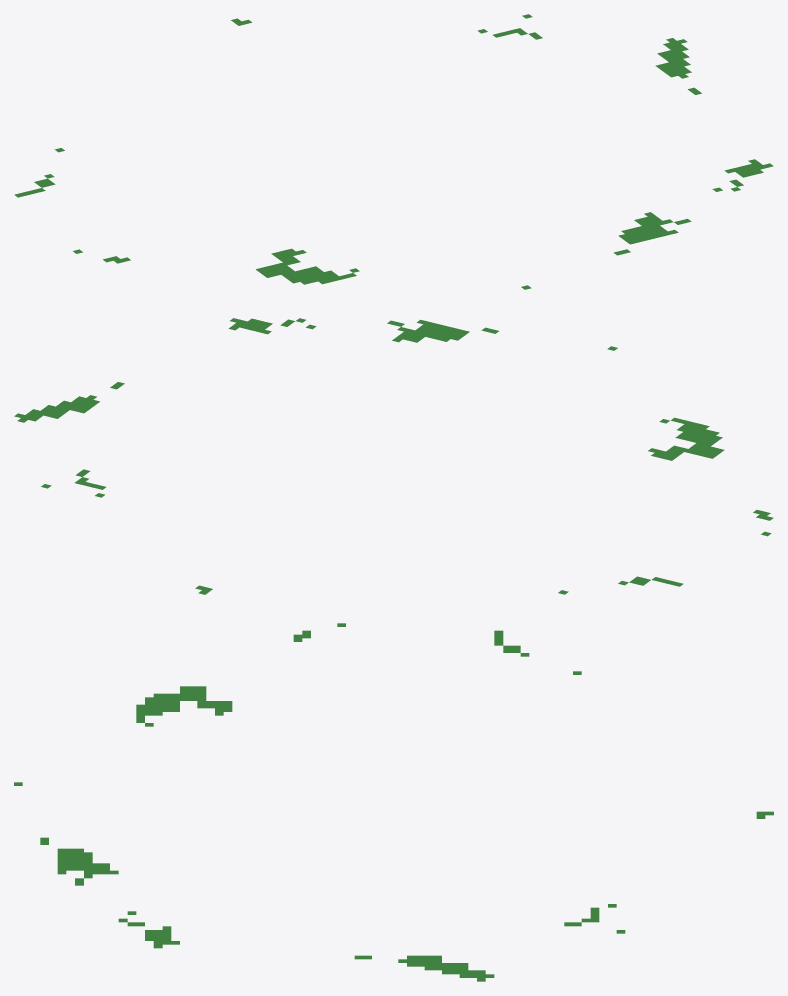
Rendered from Isl-rocky3-TreesArea.fbx.
3 views of the same model, one above another, from view 1: azimuth 30°, elevation 25°; view 2: azimuth 150°, elevation 25°; view 3: azimuth 270°, elevation 25° (orthographic). The views are drawn at different scales.
Parts seen in each view (by area): view 1: Isl-rocky3-TreesArea; view 2: Isl-rocky3-TreesArea; view 3: Isl-rocky3-TreesArea.
Boxes of the visible parts, left/top/right/bottom form: Isl-rocky3-TreesArea: left=14, top=14, right=773, bottom=289; Isl-rocky3-TreesArea: left=14, top=318, right=773, bottom=594; Isl-rocky3-TreesArea: left=14, top=623, right=773, bottom=981.
Size of the model in its own units: 97 by 0 by 87.
